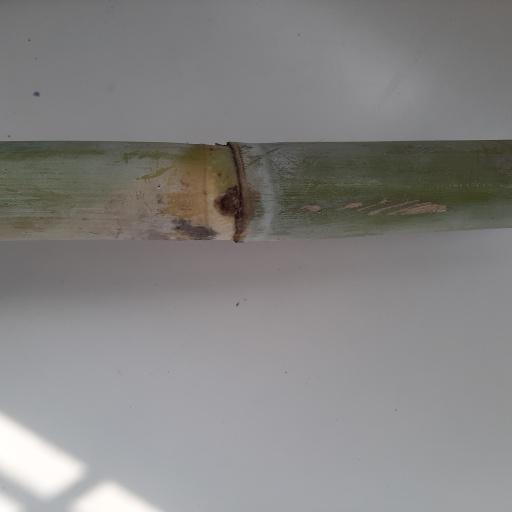Bud: (215, 187, 242, 215)
